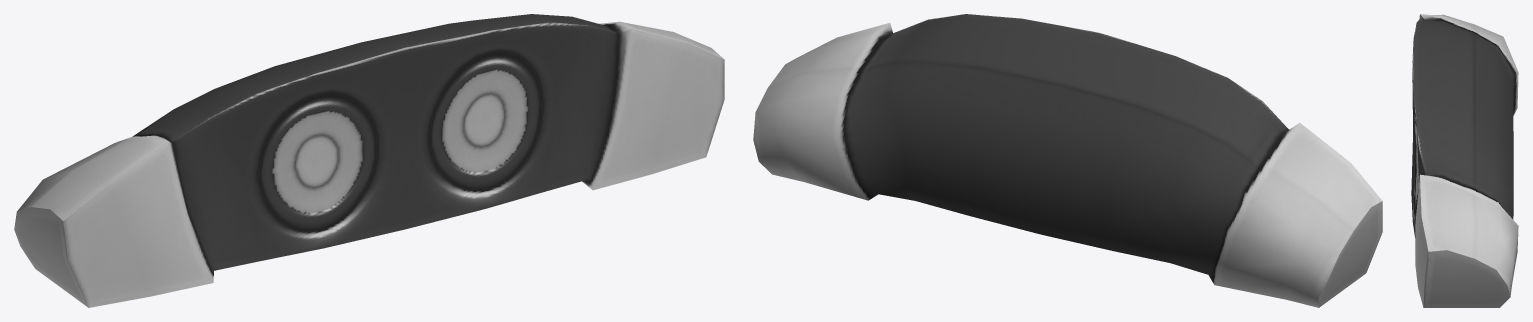
File: SpeakerC.FBX
3 views of the same model, side by side, from view 1: azimuth 30°, elevation 25°; view 2: azimuth 150°, elevation 25°; view 3: azimuth 270°, elevation 25° (orthographic). The views are drawn at different scales.
Visible parts, largest first — view 1: SpeakerC; view 2: SpeakerC; view 3: SpeakerC.
Part boxes in pixels (x1,y1,x2,y2): SpeakerC: (14,14,724,307); SpeakerC: (753,14,1382,307); SpeakerC: (1411,14,1518,307).
Bounding box in the file's own units: 18.63 × 3.67 × 5.12.
1 material, 1 textured.
